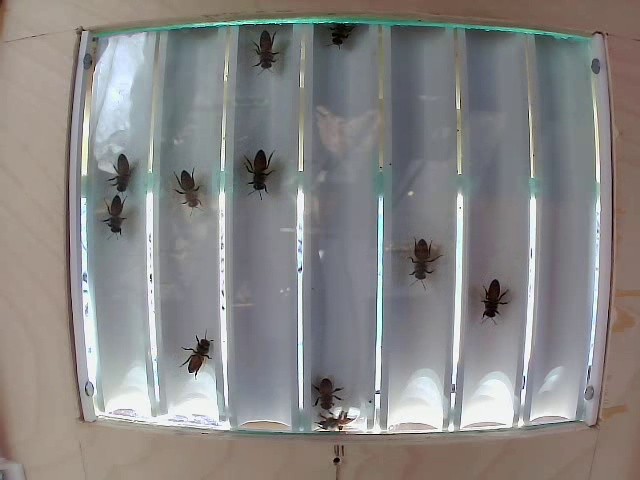bee: (400, 221, 443, 289), (91, 181, 139, 239), (163, 161, 208, 221), (247, 28, 295, 80), (236, 138, 276, 193), (471, 271, 506, 329), (171, 333, 218, 376), (108, 149, 149, 197), (313, 369, 346, 409), (327, 9, 359, 49)
